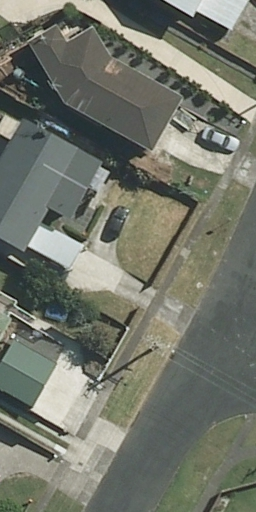DT: (150, 339, 175, 356)
